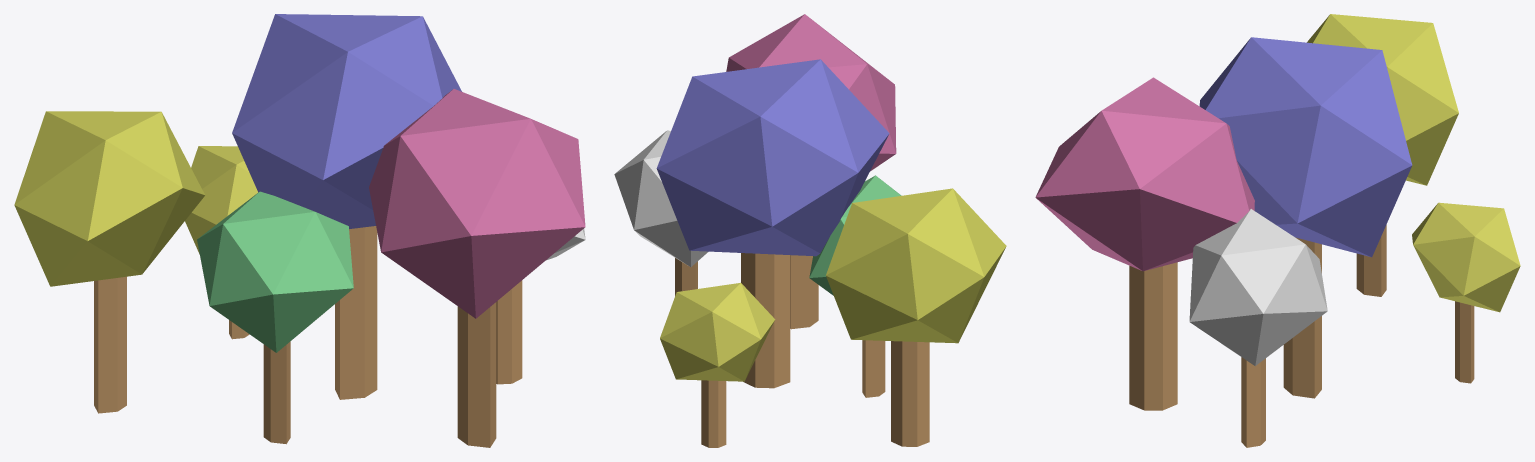
The model's file is Flower.fbx.
The picture shows the model from 3 angles, left to right: view 1: azimuth 30°, elevation 25°; view 2: azimuth 150°, elevation 25°; view 3: azimuth 270°, elevation 25°; orthographic projection. The views are drawn at different scales.
Parts seen in each view (by area): view 1: Icosphere.003, Icosphere.001, Icosphere.002, Icosphere, Cylinder.001, Cylinder.003, Cylinder.002, Icosphere.005, Cylinder, Cylinder.004; view 2: Icosphere.001, Icosphere.002, Icosphere.005, Icosphere.003, Cylinder.001, Icosphere.004, Cylinder.002, Cylinder.003, Icosphere, Cylinder.005, Cylinder, Cylinder.004; view 3: Icosphere.001, Icosphere.003, Icosphere.004, Icosphere.002, Icosphere.005, Cylinder.003, Cylinder.001, Cylinder.004, Cylinder.005, Cylinder.002.
Boxes of the visible parts, <box> form: Icosphere.003: <box>369,89,585,318</box>; Icosphere.001: <box>232,14,461,228</box>; Icosphere.002: <box>14,111,205,286</box>; Icosphere: <box>197,191,353,352</box>; Cylinder.001: <box>335,226,377,399</box>; Cylinder.003: <box>457,302,496,447</box>; Cylinder.002: <box>94,276,126,413</box>; Icosphere.005: <box>185,146,257,254</box>; Cylinder: <box>263,341,290,444</box>; Cylinder.004: <box>496,280,522,384</box>; Icosphere.001: <box>656,59,889,256</box>; Icosphere.002: <box>826,188,1006,343</box>; Icosphere.005: <box>660,282,775,381</box>; Icosphere.003: <box>726,14,896,171</box>; Cylinder.001: <box>741,253,790,388</box>; Icosphere.004: <box>614,130,708,266</box>; Cylinder.002: <box>891,341,929,446</box>; Cylinder.003: <box>790,255,818,329</box>; Icosphere: <box>809,175,901,295</box>; Cylinder.005: <box>701,380,726,447</box>; Cylinder: <box>862,340,885,397</box>; Cylinder.004: <box>675,258,697,295</box>; Icosphere.001: <box>1199,37,1412,257</box>; Icosphere.003: <box>1035,77,1254,271</box>; Icosphere.004: <box>1189,209,1327,365</box>; Icosphere.002: <box>1307,14,1458,185</box>; Icosphere.005: <box>1412,202,1520,312</box>; Cylinder.003: <box>1129,262,1177,410</box>; Cylinder.001: <box>1283,237,1321,398</box>; Cylinder.004: <box>1241,357,1265,447</box>; Cylinder.005: <box>1455,301,1474,383</box>; Cylinder.002: <box>1356,225,1386,296</box>.
Size of the model in its own units: 168 by 120 by 155.
